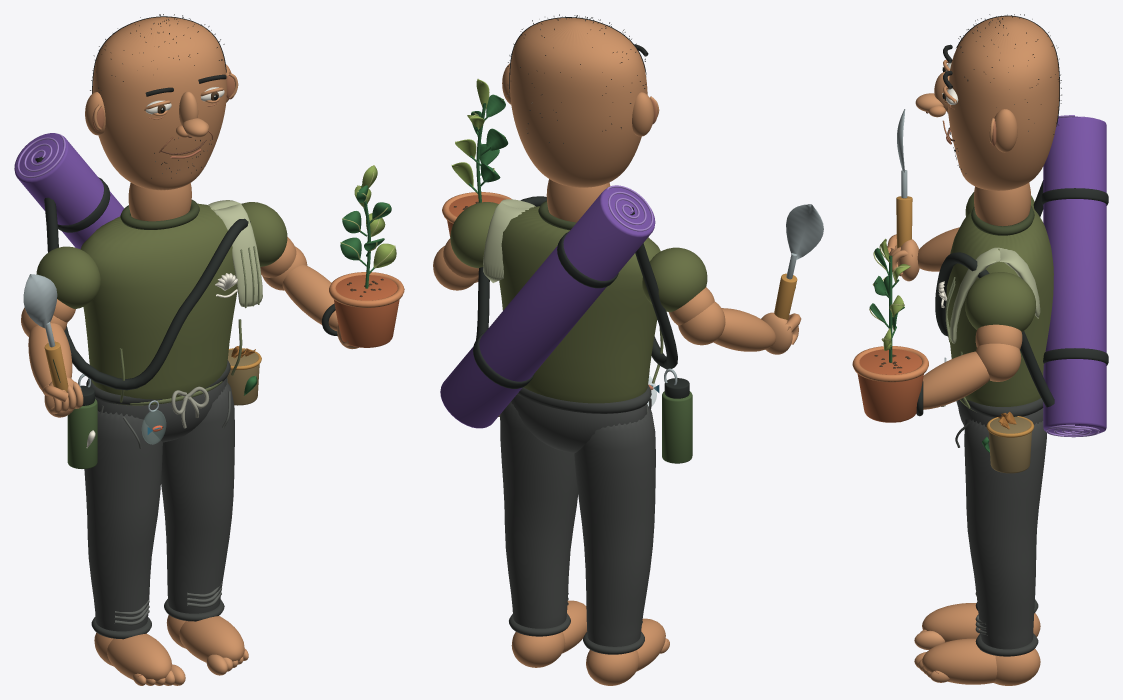
File: 08_environment_guide.glb
3 views of the same model, side by side, from view 1: azimuth 30°, elevation 25°; view 2: azimuth 150°, elevation 25°; view 3: azimuth 270°, elevation 25° (orthographic). The views are drawn at different scales.
Visible parts, largest first — view 1: T-shirt | draped torso, Face | sculpted head, Joggers | leg -1, Joggers | leg 1, Yoga | rolled purple mat, Yoga | carry strap across shoulder, Plant | terracotta pot, T-shirt | short sleeve -1, Joggers | hips, Sauna | towel over shoulder, Foot | instep -1, Foot | instep 1 (+15 smaller); view 2: Face | sculpted head, Yoga | rolled purple mat, Joggers | leg -1, T-shirt | draped torso, Joggers | leg 1, Joggers | hips, T-shirt | short sleeve -1, Yoga | carry strap across shoulder, T-shirt | short sleeve 1, Bottle | reusable green flask, Forearm -1, Sauna | towel over shoulder (+17 smaller); view 3: Yoga | rolled purple mat, Face | sculpted head, Joggers | leg 1, T-shirt | draped torso, Plant | terracotta pot, T-shirt | short sleeve 1, Foot | instep 1, Forearm 1, Yoga | carry strap across shoulder, Compost | canvas leaf pouch, Neck | adult proportions, Sauna | towel over shoulder (+17 smaller).
Boxes of the visible parts, bbox=[...] form: T-shirt | draped torso: bbox=[80, 203, 237, 399]; Face | sculpted head: bbox=[92, 17, 226, 190]; Joggers | leg -1: bbox=[84, 410, 162, 631]; Joggers | leg 1: bbox=[161, 382, 234, 613]; Yoga | rolled purple mat: bbox=[14, 133, 123, 249]; Yoga | carry strap across shoulder: bbox=[35, 156, 250, 390]; Plant | terracotta pot: bbox=[334, 275, 399, 347]; T-shirt | short sleeve -1: bbox=[36, 246, 100, 309]; Joggers | hips: bbox=[95, 379, 226, 442]; Sauna | towel over shoulder: bbox=[208, 200, 262, 306]; Foot | instep -1: bbox=[107, 633, 171, 681]; Foot | instep 1: bbox=[179, 616, 244, 662]; Face | sculpted head: bbox=[510, 18, 647, 187]; Yoga | rolled purple mat: bbox=[440, 187, 655, 428]; Joggers | leg -1: bbox=[574, 406, 655, 646]; T-shirt | draped torso: bbox=[499, 206, 660, 403]; Joggers | leg 1: bbox=[500, 402, 578, 628]; Joggers | hips: bbox=[511, 394, 647, 453]; T-shirt | short sleeve -1: bbox=[642, 247, 707, 312]; Yoga | carry strap across shoulder: bbox=[476, 196, 677, 369]; T-shirt | short sleeve 1: bbox=[450, 202, 498, 268]; Bottle | reusable green flask: bbox=[662, 391, 692, 463]; Forearm -1: bbox=[713, 308, 775, 351]; Sauna | towel over shoulder: bbox=[483, 199, 535, 282]; Yoga | rolled purple mat: bbox=[1043, 117, 1106, 434]; Face | sculpted head: bbox=[948, 16, 1059, 190]; Joggers | leg 1: bbox=[964, 419, 1046, 649]; T-shirt | draped torso: bbox=[946, 207, 1053, 406]; Plant | terracotta pot: bbox=[857, 349, 923, 422]; T-shirt | short sleeve 1: bbox=[965, 272, 1035, 332]; Foot | instep 1: bbox=[922, 638, 997, 684]; Forearm 1: bbox=[923, 351, 989, 409]; Yoga | carry strap across shoulder: bbox=[935, 180, 1054, 407]; Compost | canvas leaf pouch: bbox=[988, 416, 1031, 473]; Neck | adult proportions: bbox=[974, 182, 1031, 226]; Sauna | towel over shoulder: bbox=[950, 247, 1040, 343].
Bounding box in the file's own units: 1.44 × 2.36 × 0.848.
